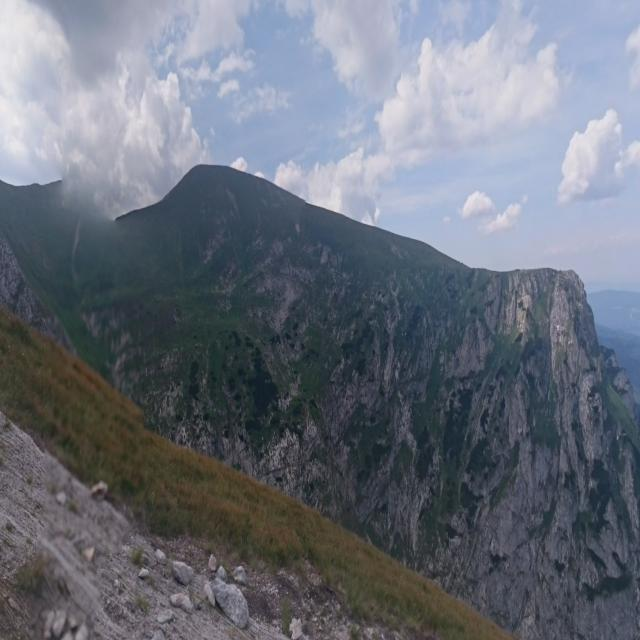Malolaczniak: (117, 61, 306, 273)
